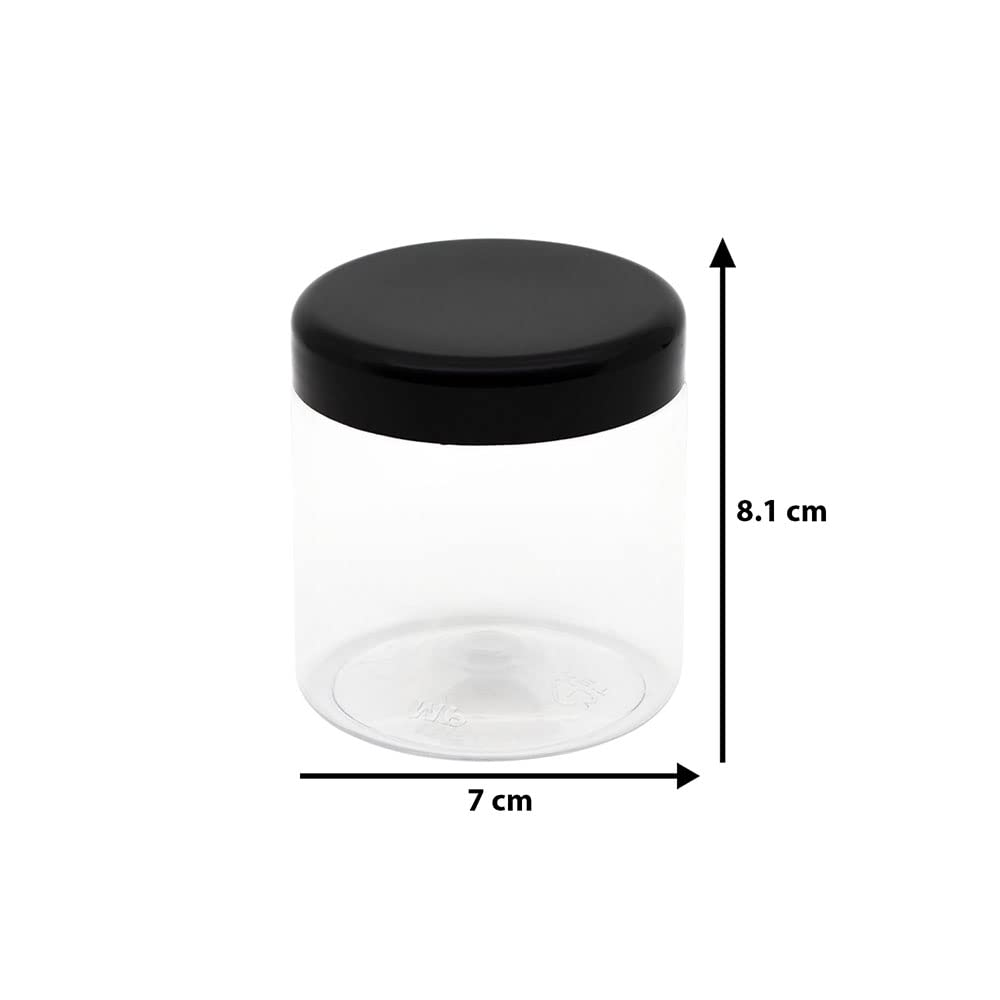7cm: (469, 789, 531, 811)
8.1cm: (737, 500, 826, 521)
